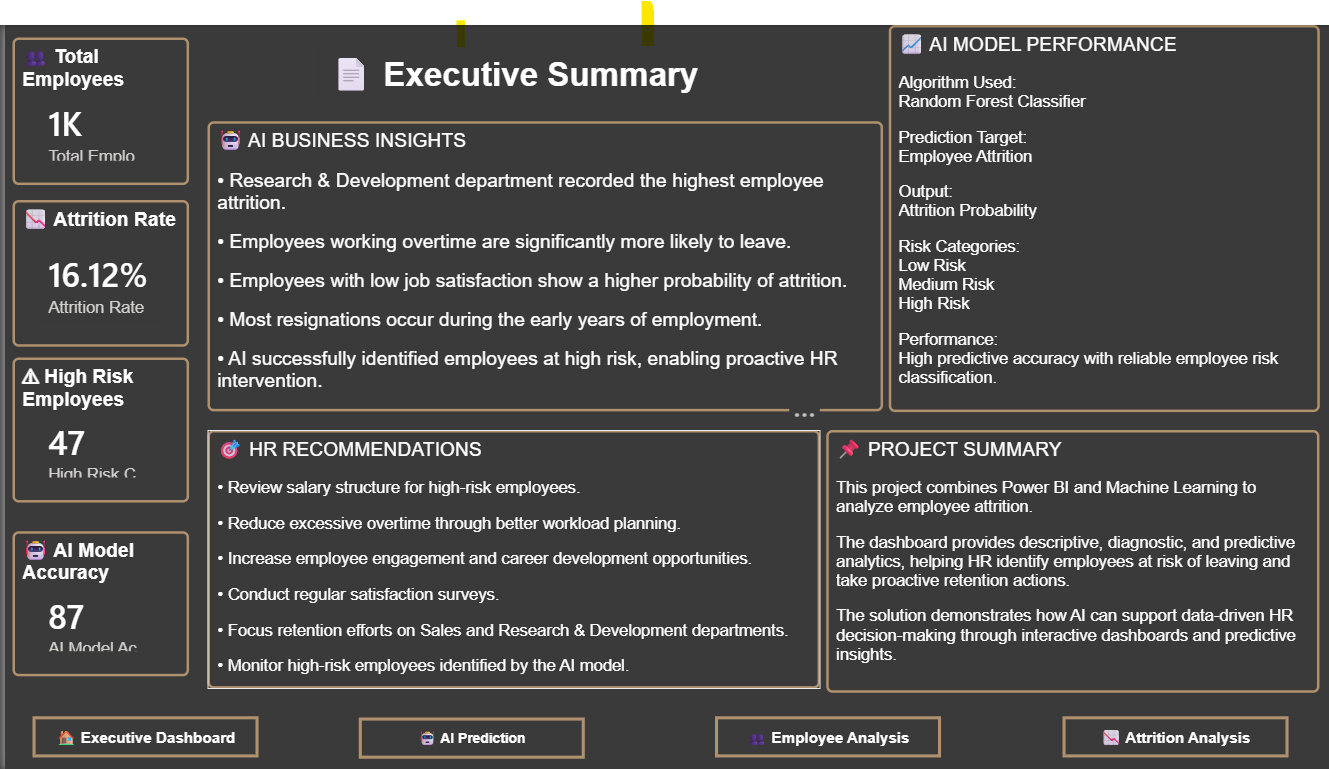

Layout of this report page (visuals, bound fields, positions):
{"tool":"powerbi","page":{"name":"Executive Summary Dashboard","canvas":[1280,720],"ordinal":4},"visuals":[{"type":"textbox","box":[303.3,19.2,376,53.5],"z":0},{"type":"cardVisual","title":"👥 Total Employees","fields":{"Data":["FactEmployee.Total Employees"]},"box":[6.9,12.3,170.2,142.7],"z":1},{"type":"cardVisual","title":"📉 Attrition Rate","fields":{"Data":["FactEmployee.Attrition Rate"]},"box":[6.9,168.8,170.2,141.3],"z":2},{"type":"cardVisual","title":"⚠ High Risk Employees","fields":{"Data":["FactEmployee.High Risk Count"]},"box":[6.9,321.1,170.2,140],"z":3},{"type":"cardVisual","title":"🤖 AI Model Accuracy","fields":{"Data":["FactEmployee.AI Model Accuracy"]},"box":[6.9,488.5,170.2,140],"z":4},{"type":"textbox","title":"🤖 AI BUSINESS INSIGHTS","box":[194.9,93.3,651.8,279.9],"z":5},{"type":"textbox","title":"📈 AI MODEL PERFORMANCE","box":[853.5,0,415.8,373.2],"z":6},{"type":"textbox","title":"🎯 HR RECOMMENDATIONS","box":[194.9,391.1,591.4,249.7],"z":7},{"type":"textbox","title":"📌 PROJECT SUMMARY","box":[793.1,391.1,476.2,253.9],"z":8},{"type":"actionButton","box":[26.1,666.9,218.2,39.8],"z":9},{"type":"actionButton","box":[341.7,668.3,218.2,39.8],"z":10},{"type":"actionButton","box":[684.7,666.9,218.2,39.8],"z":11},{"type":"actionButton","box":[1020.9,666.9,218.2,39.8],"z":12}]}

Visuals, with their boxes in screenshot pixels (x1, y1, x2, y2), scaled from the page's 1280x720 canvas onto the 1329x769 screenshot:
textbox: {"x1": 315, "y1": 21, "x2": 705, "y2": 78}
"👥 Total Employees" cardVisual: {"x1": 7, "y1": 13, "x2": 184, "y2": 166}
"📉 Attrition Rate" cardVisual: {"x1": 7, "y1": 180, "x2": 184, "y2": 331}
"⚠ High Risk Employees" cardVisual: {"x1": 7, "y1": 343, "x2": 184, "y2": 492}
"🤖 AI Model Accuracy" cardVisual: {"x1": 7, "y1": 522, "x2": 184, "y2": 671}
"🤖 AI BUSINESS INSIGHTS" textbox: {"x1": 202, "y1": 100, "x2": 879, "y2": 399}
"📈 AI MODEL PERFORMANCE" textbox: {"x1": 886, "y1": 0, "x2": 1318, "y2": 399}
"🎯 HR RECOMMENDATIONS" textbox: {"x1": 202, "y1": 418, "x2": 816, "y2": 684}
"📌 PROJECT SUMMARY" textbox: {"x1": 823, "y1": 418, "x2": 1318, "y2": 689}
actionButton: {"x1": 27, "y1": 712, "x2": 254, "y2": 755}
actionButton: {"x1": 355, "y1": 714, "x2": 581, "y2": 756}
actionButton: {"x1": 711, "y1": 712, "x2": 937, "y2": 755}
actionButton: {"x1": 1060, "y1": 712, "x2": 1287, "y2": 755}
